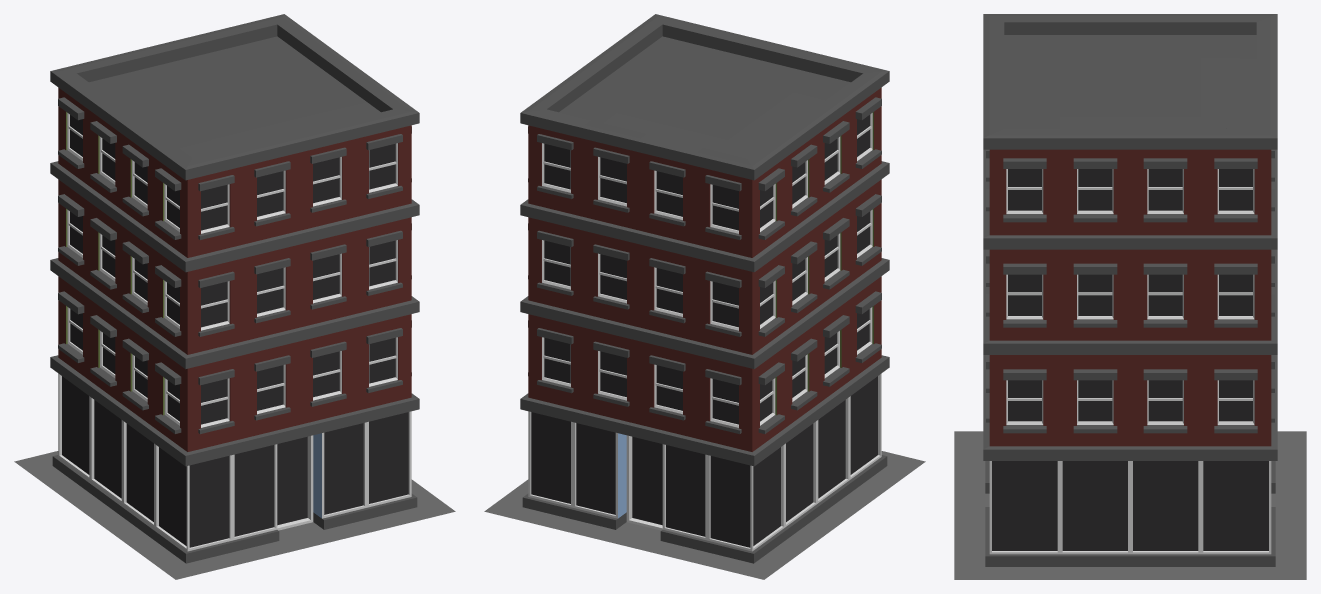
File: 1x1 Commercial Office.fbx
3 renders of one model, left to right at view 1: azimuth 30°, elevation 25°; view 2: azimuth 150°, elevation 25°; view 3: azimuth 270°, elevation 25°, orthographic. The views are drawn at different scales.
Parts seen in each view (by area): view 1: 1x1 Commercial Office; view 2: 1x1 Commercial Office; view 3: 1x1 Commercial Office.
Boxes of the visible parts, bbox=[...] form: 1x1 Commercial Office: bbox=[14, 14, 455, 579]; 1x1 Commercial Office: bbox=[484, 14, 925, 579]; 1x1 Commercial Office: bbox=[954, 14, 1306, 579].
Size of the model in its own units: 1 by 1.35 by 1.
